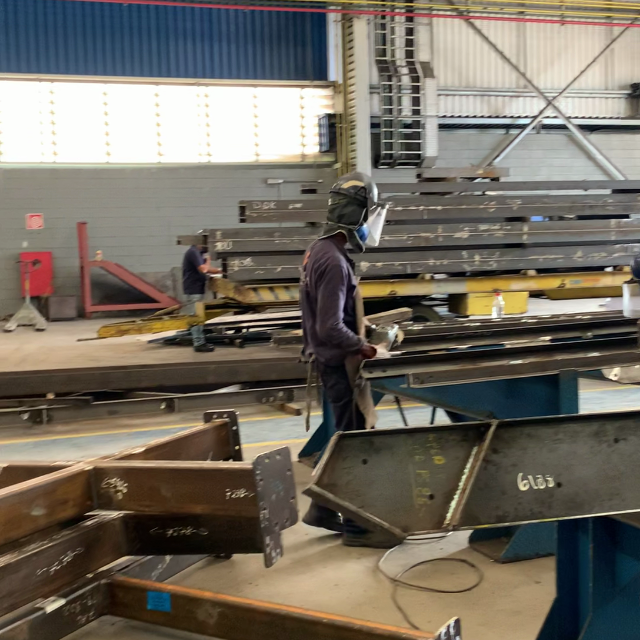face-shield: (361, 201, 385, 246)
helmet: (329, 181, 380, 196)
person: (297, 179, 387, 416)
safety-shoe: (341, 506, 409, 547), (301, 496, 342, 528)
